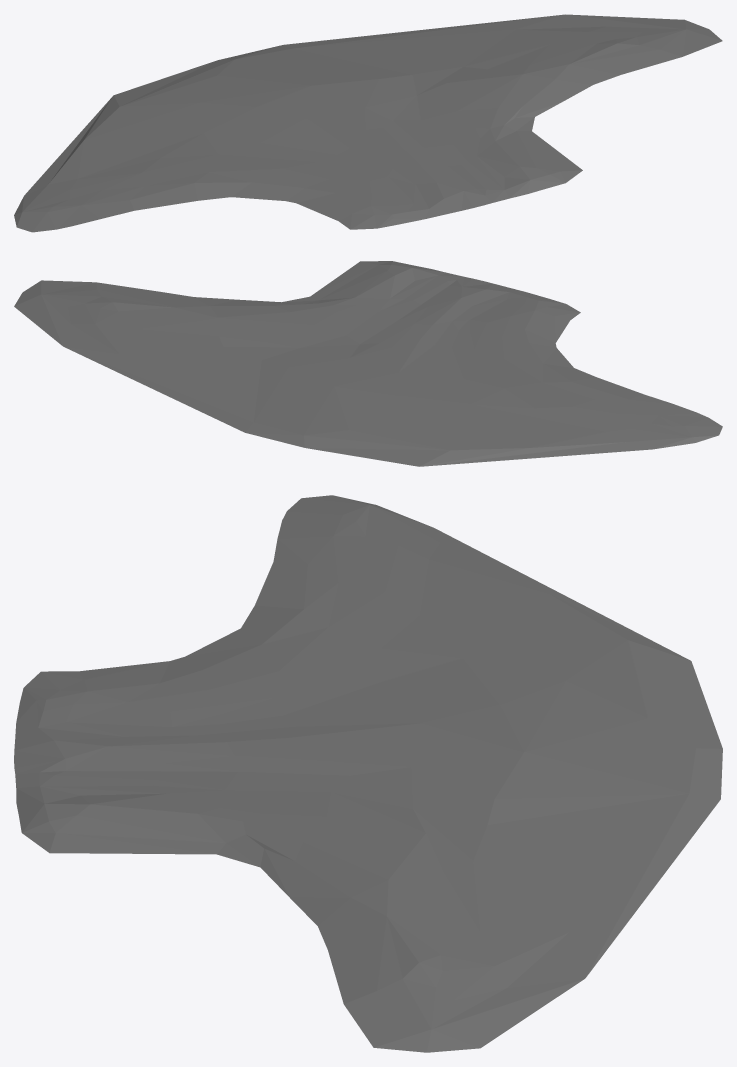
The model's file is SM_Env_Road_Gravel_End_02.fbx.
The picture shows the model from 3 angles, top to bottom: view 1: azimuth 30°, elevation 25°; view 2: azimuth 150°, elevation 25°; view 3: azimuth 270°, elevation 25°; orthographic projection. The views are drawn at different scales.
Parts seen in each view (by area): view 1: SM_Env_Road_Gravel_End_02; view 2: SM_Env_Road_Gravel_End_02; view 3: SM_Env_Road_Gravel_End_02.
Boxes of the visible parts, bbox=[...] form: SM_Env_Road_Gravel_End_02: bbox=[14, 14, 722, 232]; SM_Env_Road_Gravel_End_02: bbox=[14, 261, 722, 466]; SM_Env_Road_Gravel_End_02: bbox=[14, 495, 722, 1052].
Size of the model in its own units: 27.72 by 0.5488 by 14.9.
1 material, 1 textured.
